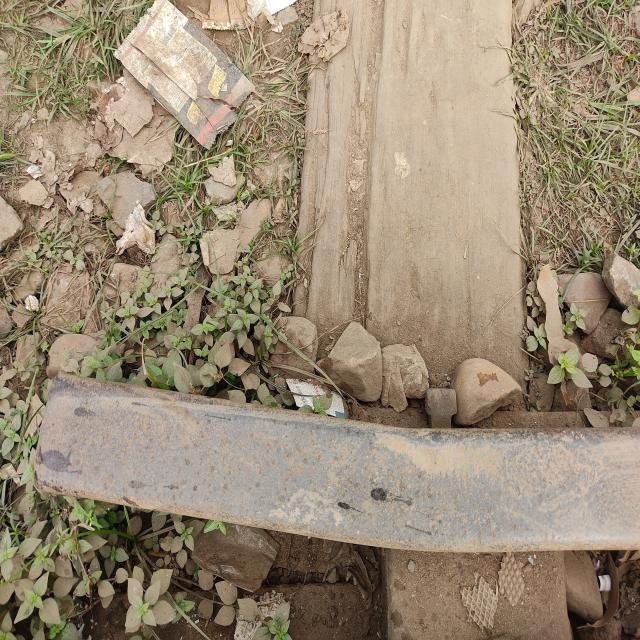defective: (18, 328, 252, 544)
